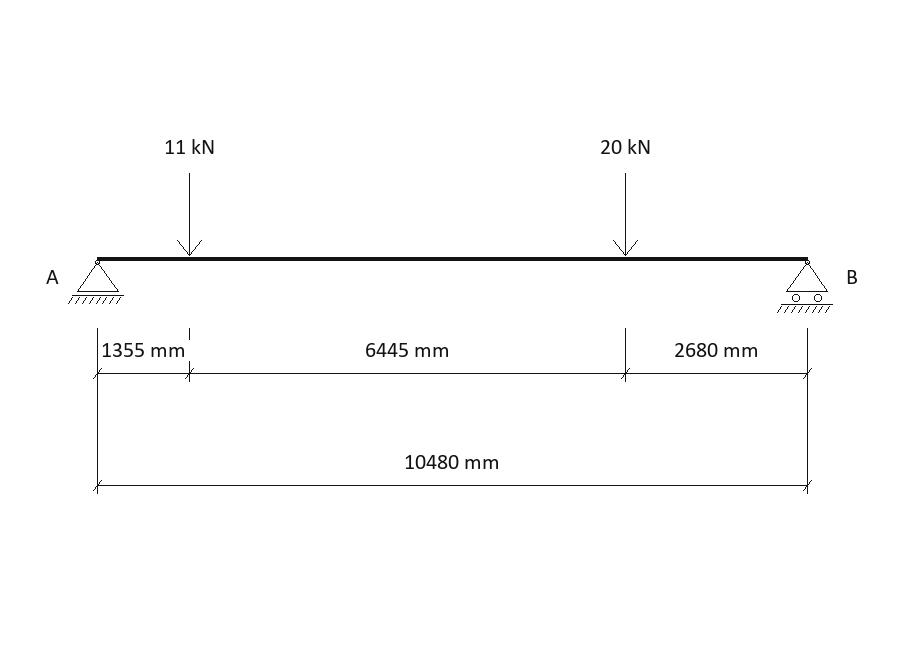pin_support: (68, 260, 124, 304)
point_load: (177, 173, 202, 256), (613, 173, 638, 256)
roller_support: (777, 260, 833, 313)
